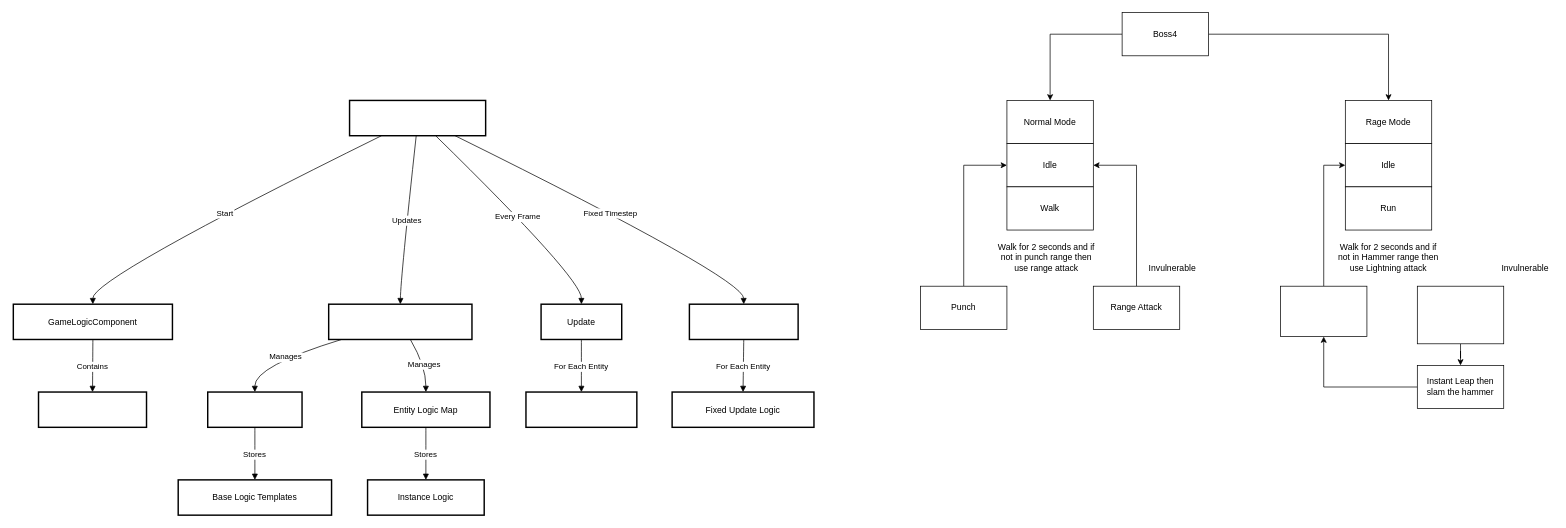
Some shapes in this 1566 by 528 pixel diagram are drawn without their labels. Each missing label, with the centre of its shape:
"FixedUpdate" belongs at (743,321).
"GameLogicManager" belongs at (400,321).
"GameLogicSystem" belongs at (417,117).
"Hammer when hit the floor player must jump" belongs at (1323,311).
"Lightning attack Part of the floor will drop when use lightning attack" belongs at (1460,314).
"Logic Map" belongs at (254,409).
"Logic Names" belongs at (92,409).
"Update Logic" belongs at (581,409).
